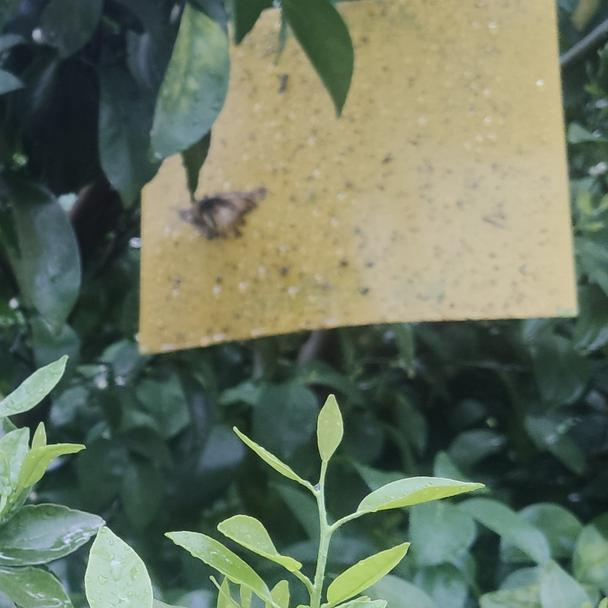shoot: (185, 402, 482, 608)
